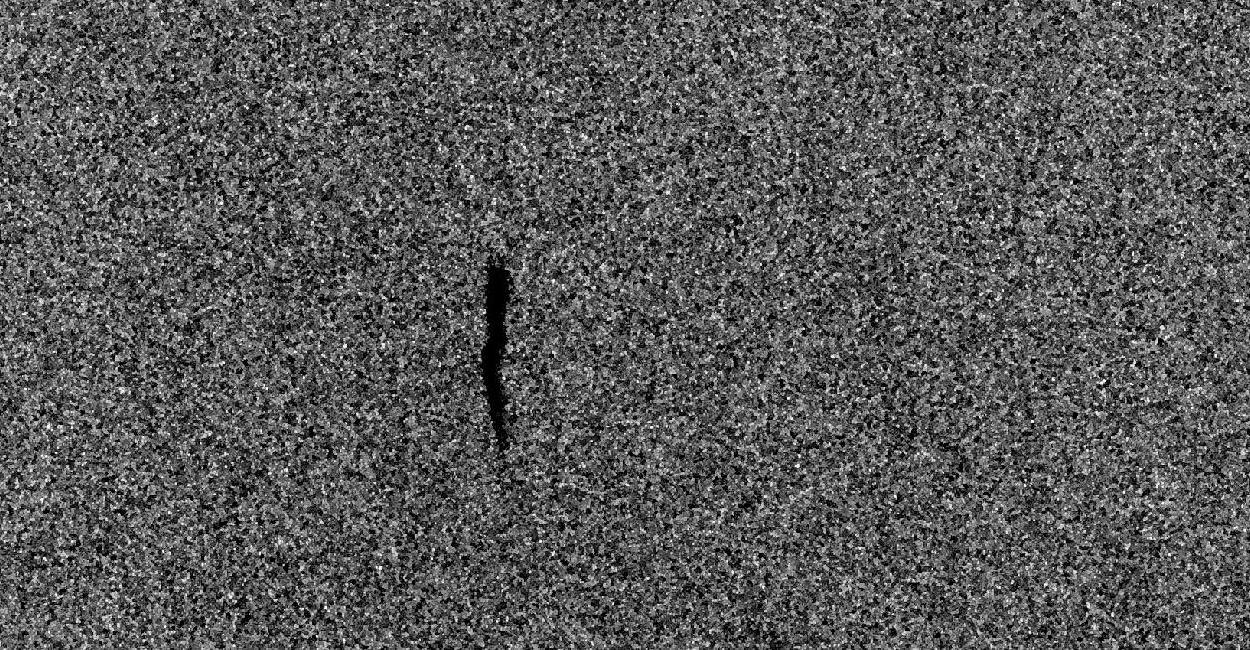Oil Spill: (474, 252, 516, 452), (495, 262, 498, 265)
